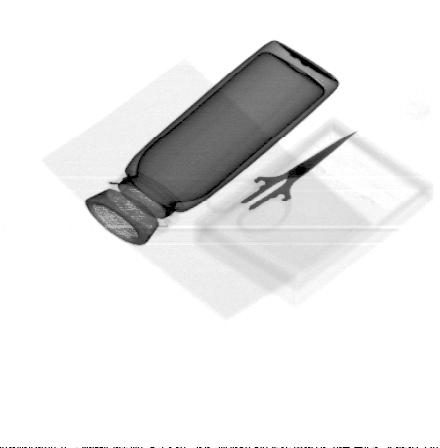Scissors: (200, 129, 360, 236)
